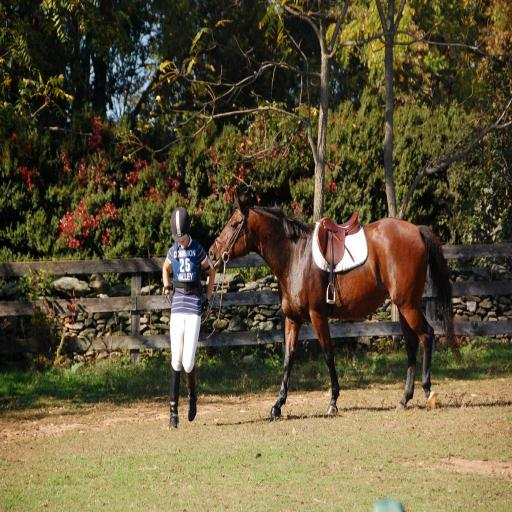Horse: (210, 193, 464, 420)
